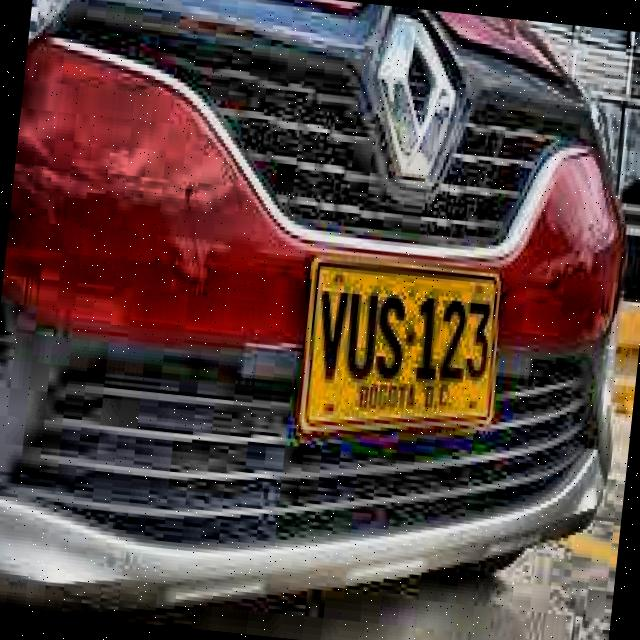1: (412, 294, 440, 384)
2: (437, 296, 468, 384)
3: (465, 297, 493, 385)
S: (372, 290, 409, 381)
U: (344, 291, 381, 381)
V: (312, 286, 350, 388)
